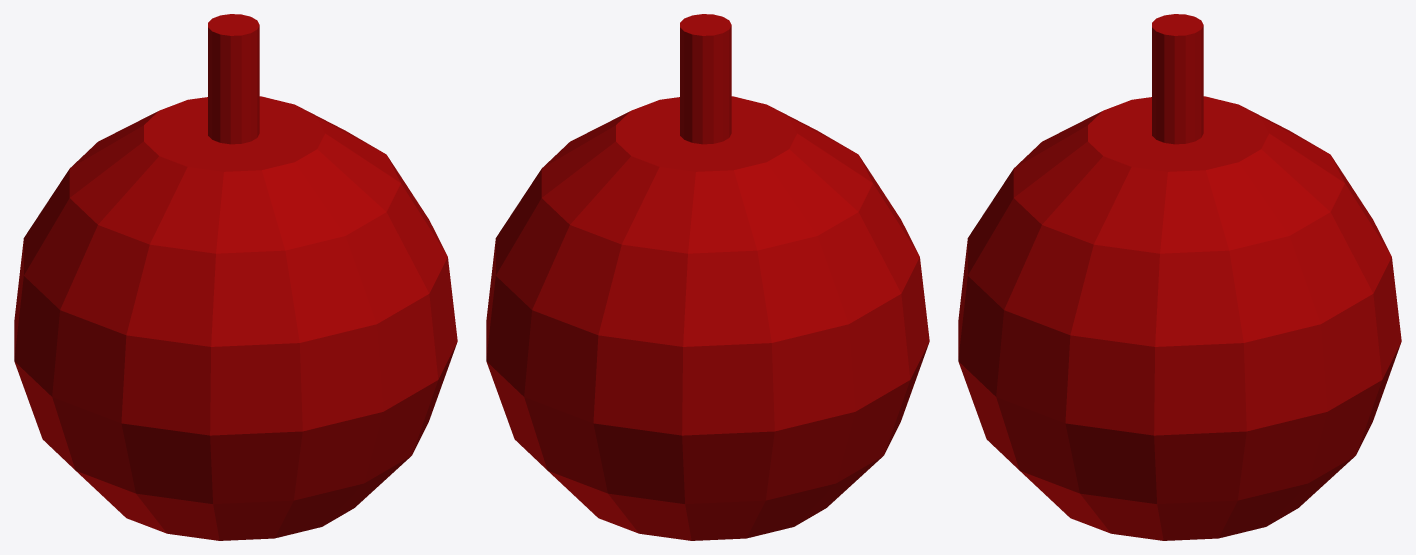
File: Buoy.FBX
The picture shows the model from 3 angles, left to right: view 1: azimuth 30°, elevation 25°; view 2: azimuth 150°, elevation 25°; view 3: azimuth 270°, elevation 25°; orthographic projection.
Parts seen in each view (by area): view 1: Sphere001; view 2: Sphere001; view 3: Sphere001.
Boxes of the visible parts, bbox=[...] form: Sphere001: bbox=[14, 14, 457, 540]; Sphere001: bbox=[486, 14, 929, 540]; Sphere001: bbox=[958, 14, 1401, 540].
Size of the model in its own units: 66.63 by 82.32 by 66.27.
